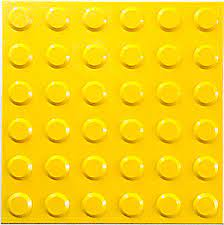guide_blocks: (3, 2, 224, 221)
